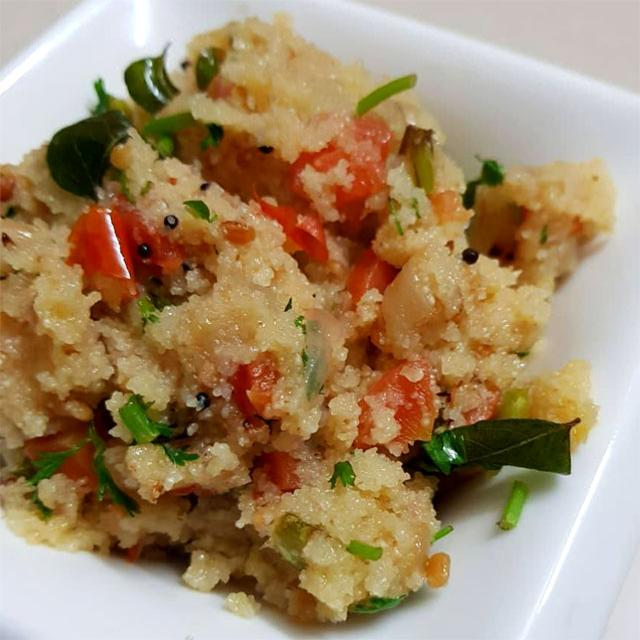UPMA: (2, 19, 617, 614)
